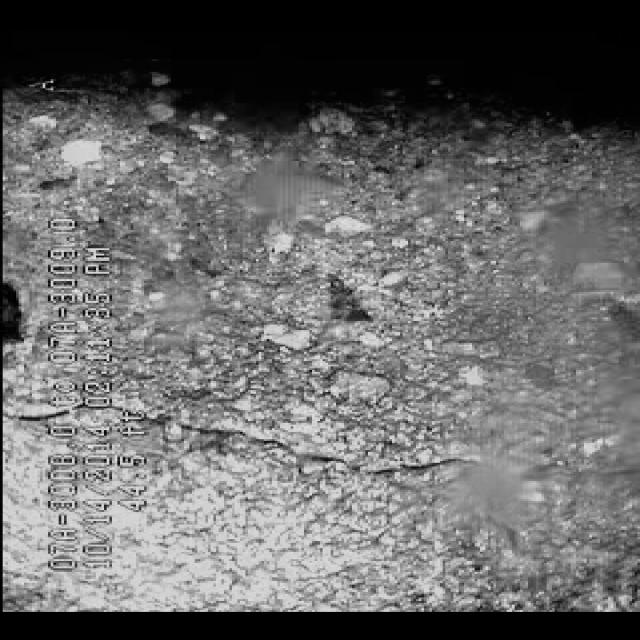Crack: (162, 390, 452, 484)
